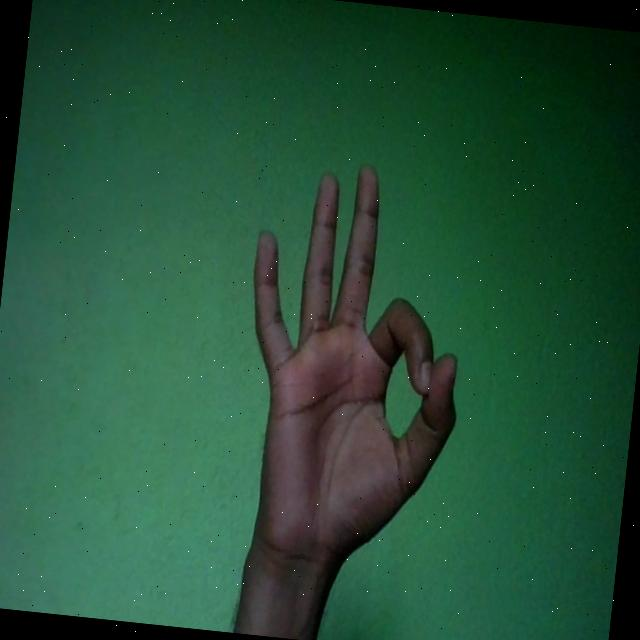Rock On: (223, 150, 482, 587)
